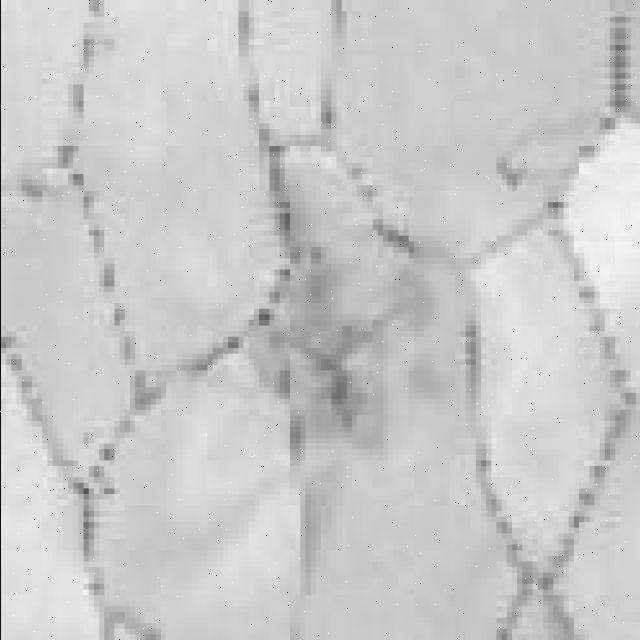good_void: (274, 254, 373, 438)
